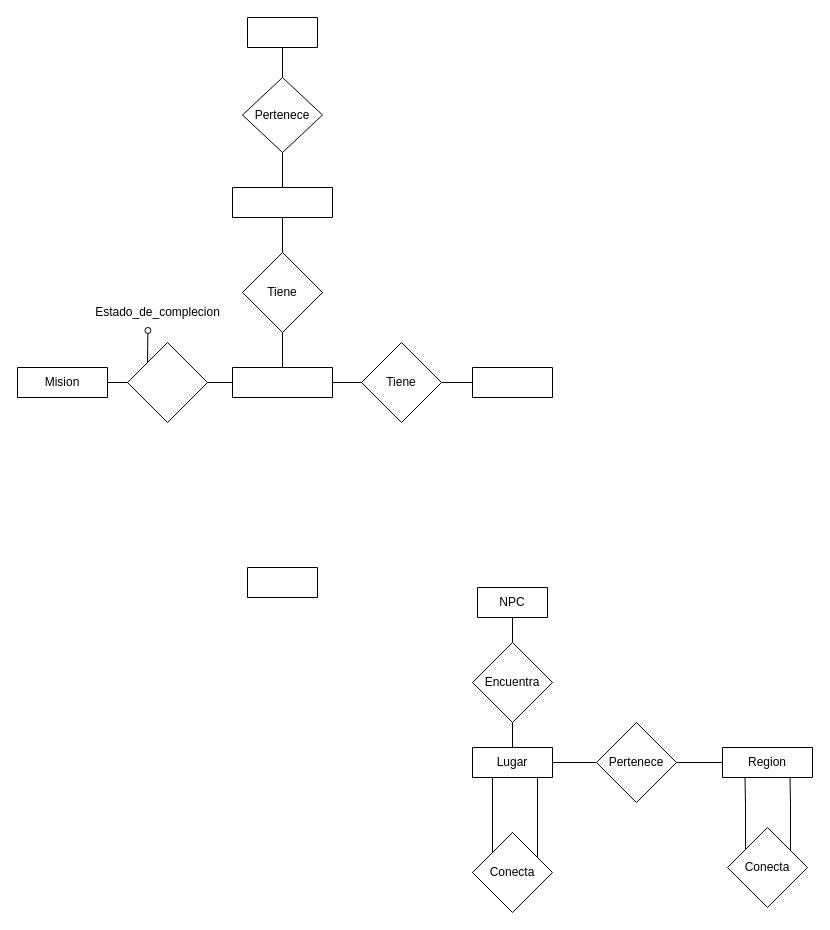
This 830x930 diagram has some shape labels left out. Each missing label, with the centre of its shape:
Clan: (x=282, y=32)
Jugador: (x=282, y=202)
Mob: (x=282, y=582)
Objeto: (x=512, y=382)
Obtiene: (x=167, y=382)
Personaje: (x=282, y=382)
